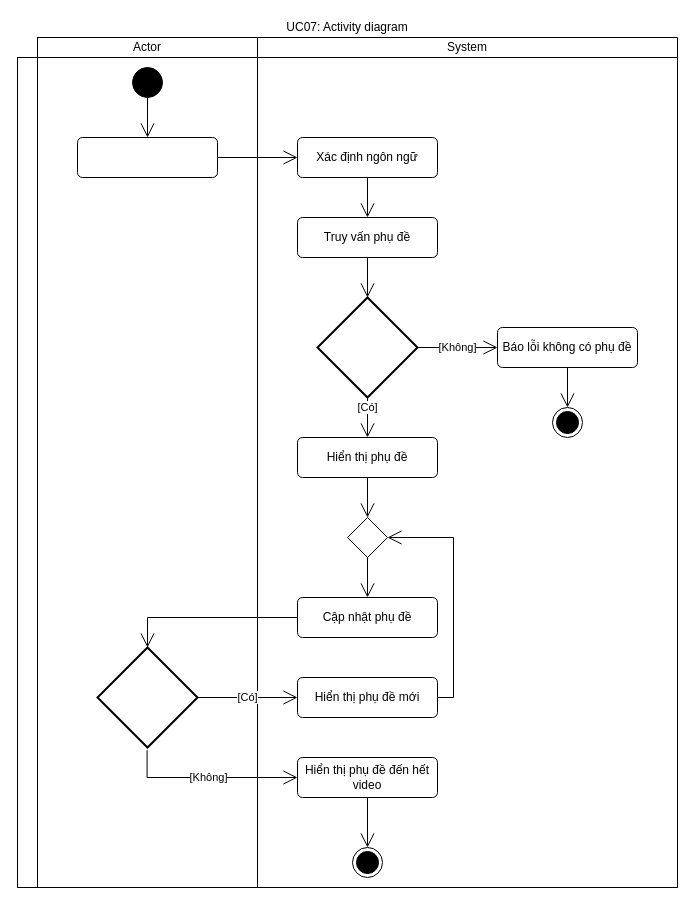
The diagram is 695 pixels wide and 905 high, and some of its shapes have lost their labels. Here are the shapes that lost their labels. From the top down, the box of each, then its label:
(76, 136, 218, 178): Chọn chức năng Xem phụ đề
(316, 296, 418, 398): Có phụ đề?
(96, 646, 198, 748): Đổi ngôn ngữ
